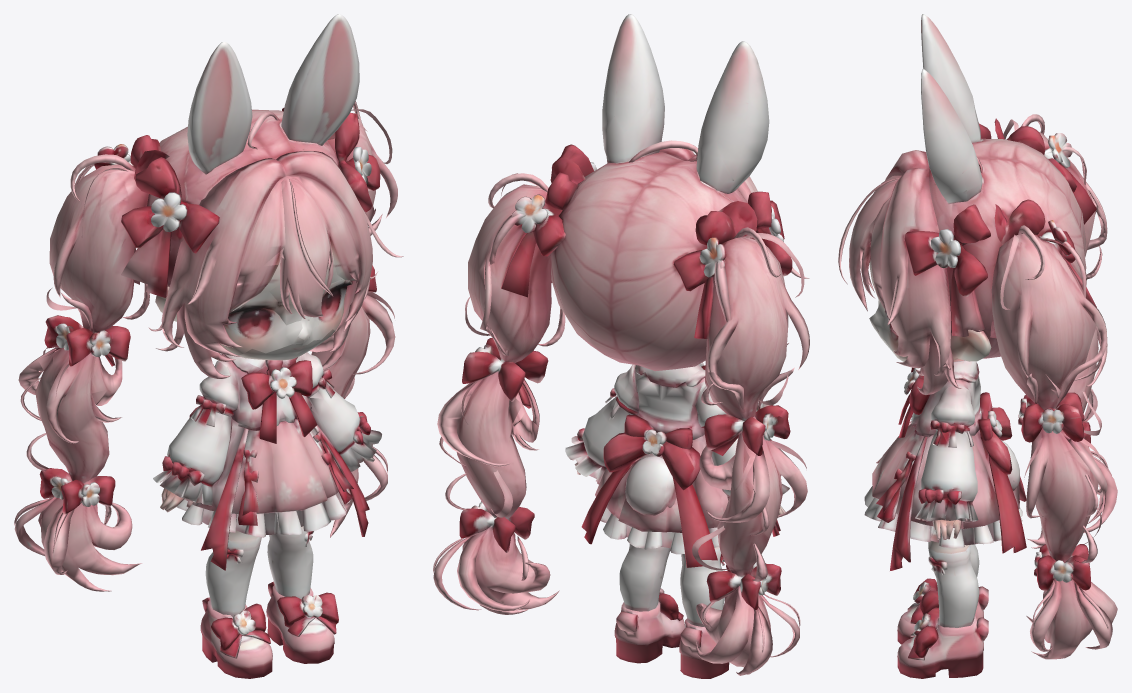
File: source.glb
3 views of the same model, side by side, from view 1: azimuth 30°, elevation 25°; view 2: azimuth 150°, elevation 25°; view 3: azimuth 270°, elevation 25° (orthographic). The views are drawn at different scales.
Parts seen in each view (by area): view 1: tripo_part_1, tripo_part_4, tripo_part_11, tripo_part_0, tripo_part_3, tripo_part_21, tripo_part_20, tripo_part_17, tripo_part_2, tripo_part_9, tripo_part_15, tripo_part_76 (+29 smaller); view 2: tripo_part_1, tripo_part_2, tripo_part_11, tripo_part_4, tripo_part_8, tripo_part_20, tripo_part_0, tripo_part_21, tripo_part_3, tripo_part_7, tripo_part_14, tripo_part_55 (+26 smaller); view 3: tripo_part_1, tripo_part_8, tripo_part_2, tripo_part_0, tripo_part_3, tripo_part_21, tripo_part_7, tripo_part_5, tripo_part_14, tripo_part_20, tripo_part_4, tripo_part_100 (+27 smaller).
Part boxes in pixels (x1,y1,x2,y2): tripo_part_1: (147,109,403,378); tripo_part_4: (18,346,142,591); tripo_part_11: (49,164,148,332); tripo_part_0: (153,352,381,505); tripo_part_3: (177,419,350,537); tripo_part_21: (281,14,359,145); tripo_part_20: (187,42,252,174); tripo_part_17: (280,176,329,319); tripo_part_2: (310,295,395,537); tripo_part_9: (121,157,220,253); tripo_part_15: (205,530,261,616); tripo_part_76: (220,308,304,355); tripo_part_1: (550,148,809,371); tripo_part_2: (437,357,559,614); tripo_part_11: (705,236,809,433); tripo_part_4: (696,416,807,674); tripo_part_8: (468,184,562,362); tripo_part_20: (696,41,769,193); tripo_part_0: (565,364,789,500); tripo_part_21: (602,14,664,163); tripo_part_3: (595,434,728,549); tripo_part_7: (614,601,684,663); tripo_part_14: (619,544,670,611); tripo_part_55: (625,456,676,515); tripo_part_1: (860,138,1086,394); tripo_part_8: (991,233,1107,410); tripo_part_2: (1026,408,1117,659); tripo_part_0: (911,375,981,522); tripo_part_3: (872,424,1022,545); tripo_part_21: (921,69,982,203); tripo_part_7: (897,615,988,678); tripo_part_5: (904,204,990,296); tripo_part_14: (928,541,979,627); tripo_part_20: (921,14,980,142); tripo_part_4: (1027,326,1117,548); tripo_part_100: (989,455,1026,553).
Size of the model in its own units: 0.573 by 1 by 0.4128.
Materials: 1 (1 with a texture image).
